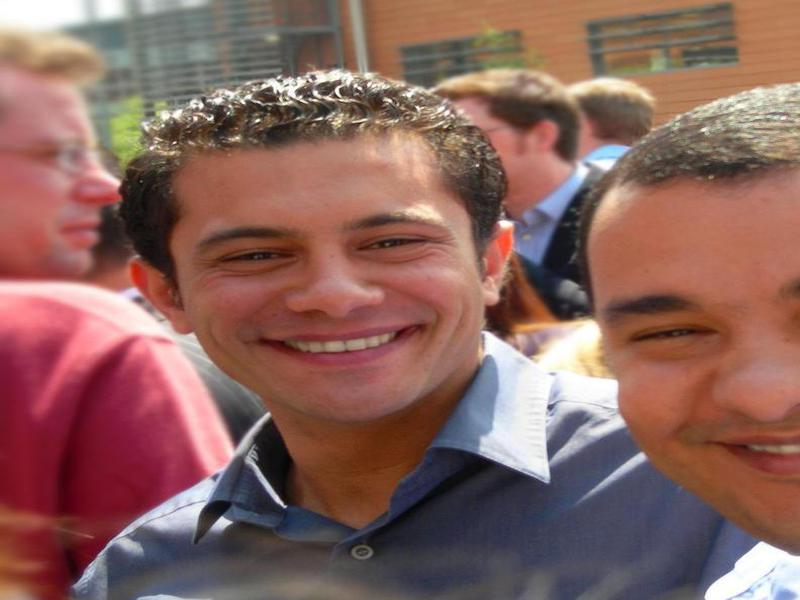person: (68, 68, 723, 600), (599, 79, 800, 559)
